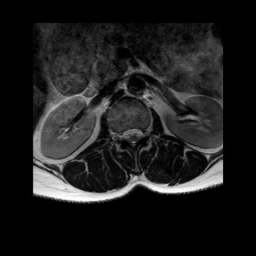CCS_normal: (129, 121, 136, 151)
LFS_normal: (142, 120, 149, 143)
LLS_normal: (136, 120, 143, 145)
RFS_normal: (115, 124, 122, 145)
RLS_normal: (122, 122, 129, 146)
